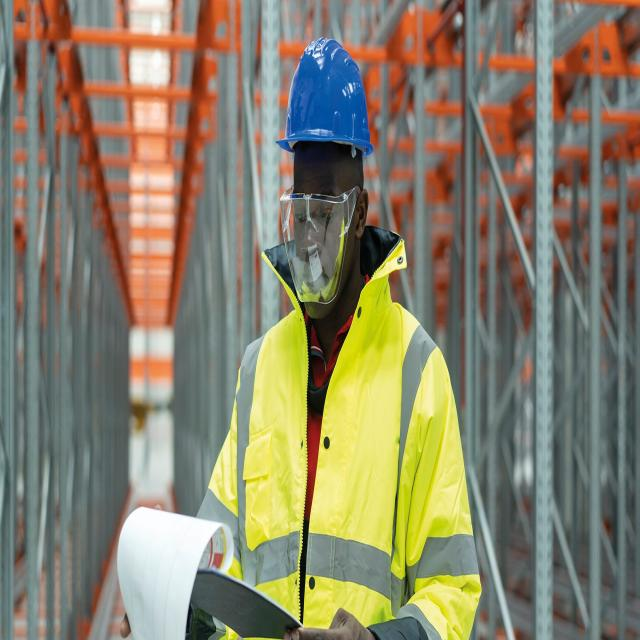goggles: (272, 177, 370, 305)
helmet: (283, 29, 372, 182)
vest: (234, 275, 446, 640)
